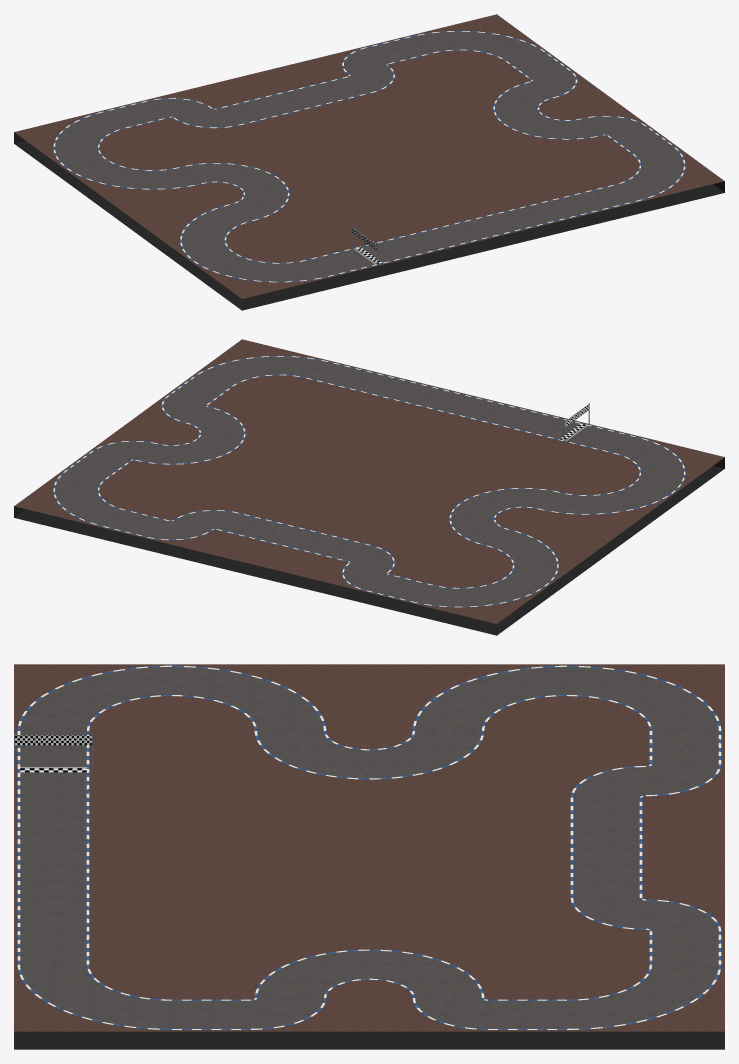
The model's file is minimap3.glb.
3 views of the same model, one above another, from view 1: azimuth 30°, elevation 25°; view 2: azimuth 150°, elevation 25°; view 3: azimuth 270°, elevation 25° (orthographic). The views are drawn at different scales.
Visible parts, largest first — view 1: track2.001, support2_black; view 2: track2.001, support2_black; view 3: track2.001, support2_black, startLine.
Part boxes in pixels (x1=…): track2.001: x1=14, y1=14, x2=724, y2=298; support2_black: x1=14, y1=132, x2=724, y2=310; track2.001: x1=14, y1=339, x2=724, y2=623; support2_black: x1=14, y1=457, x2=724, y2=635; track2.001: x1=14, y1=664, x2=724, y2=1031; support2_black: x1=14, y1=1031, x2=724, y2=1049; startLine: x1=14, y1=734, x2=92, y2=772.
Size of the model in its own units: 4.35 by 0.2816 by 3.56.
Materials: 6 (5 with a texture image).
